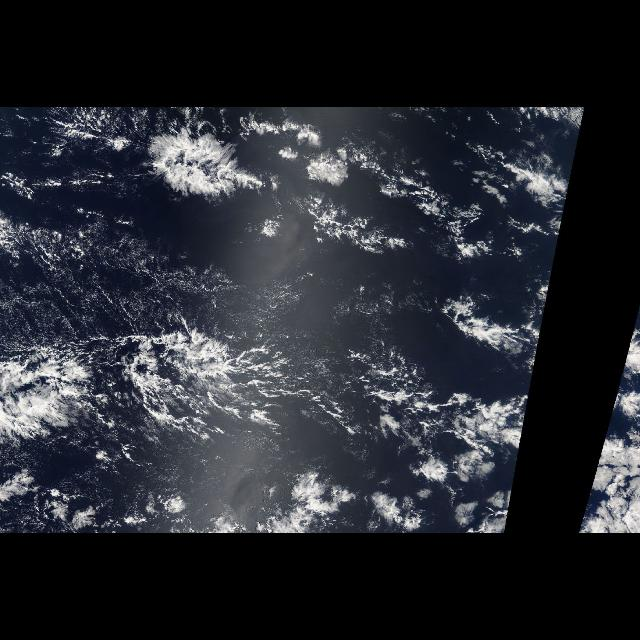Fish: (46, 112, 490, 258), (2, 306, 350, 456)
Flower: (132, 111, 452, 233)
Sugar: (2, 252, 314, 328)
